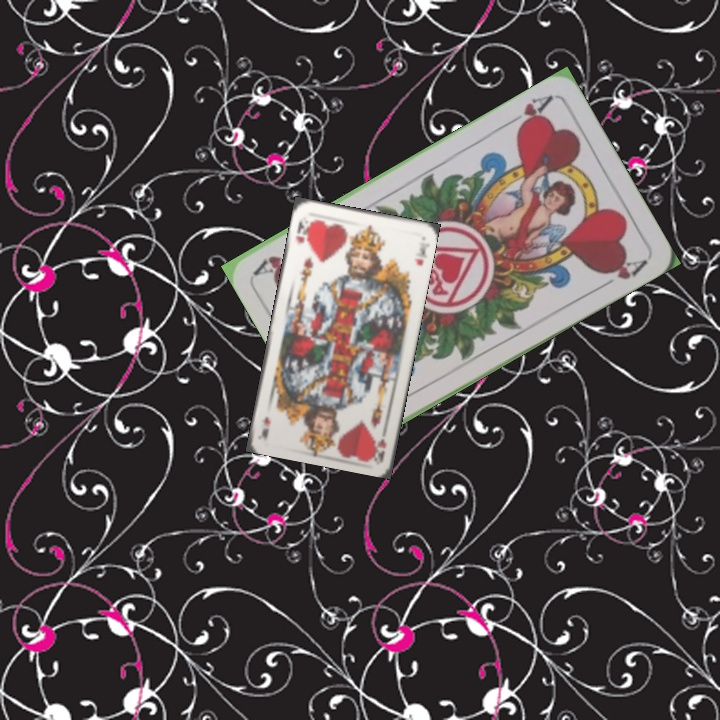HA: (502, 91, 555, 134)
HK: (370, 421, 391, 462), (291, 213, 313, 247)
